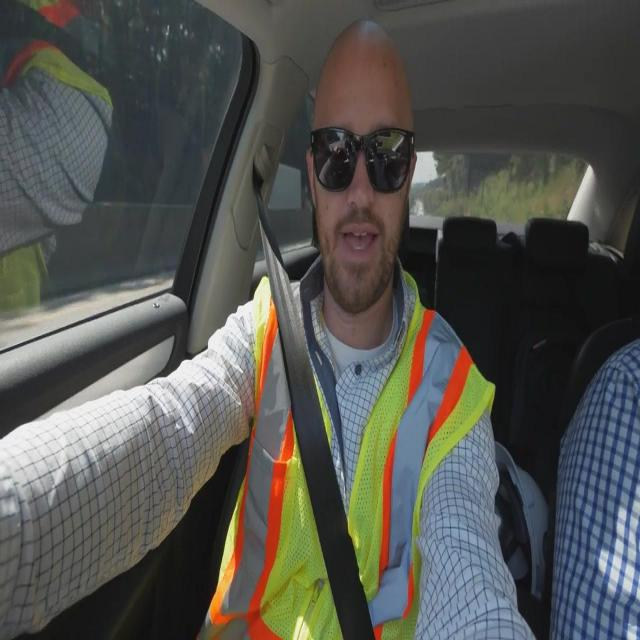Reflective-Jacket: (205, 270, 497, 638)
